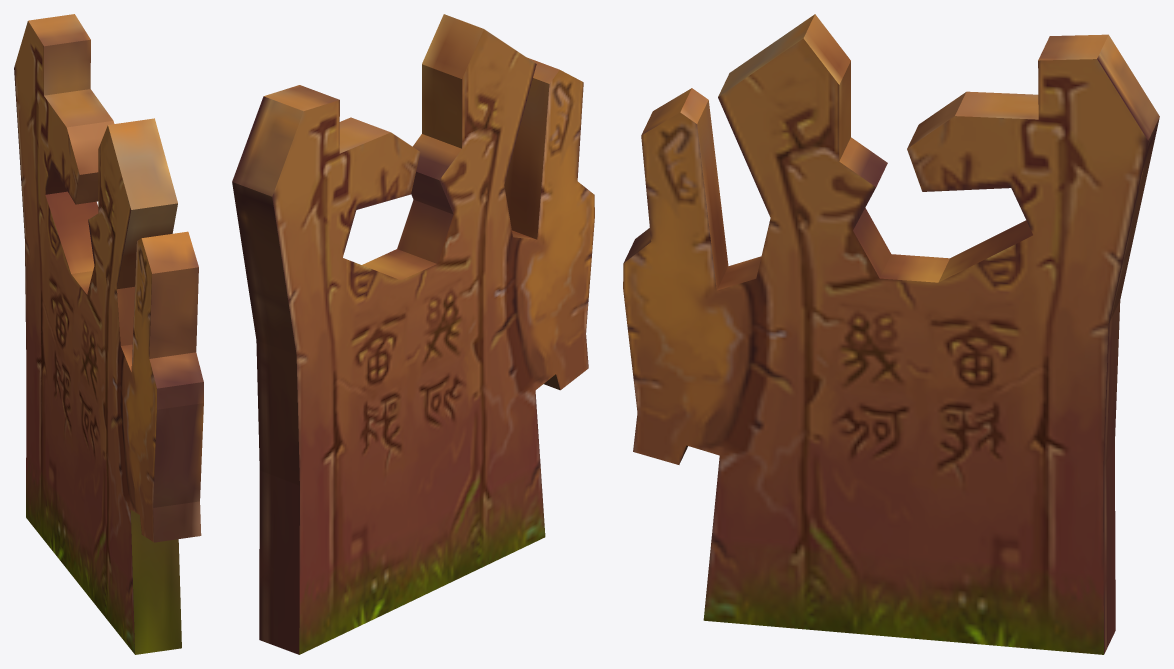
Rendered from shibei_001.FBX.
3 renders of one model, left to right at view 1: azimuth 30°, elevation 25°; view 2: azimuth 150°, elevation 25°; view 3: azimuth 270°, elevation 25°, orthographic. The views are drawn at different scales.
Visible parts, largest first — view 1: shibei_001; view 2: shibei_001; view 3: shibei_001.
Part boxes in pixels (x1,y1,x2,y2): shibei_001: (14,14,203,654); shibei_001: (232,14,594,654); shibei_001: (623,14,1159,654).
Bounding box in the file's own units: 440 × 1764 × 1442.
